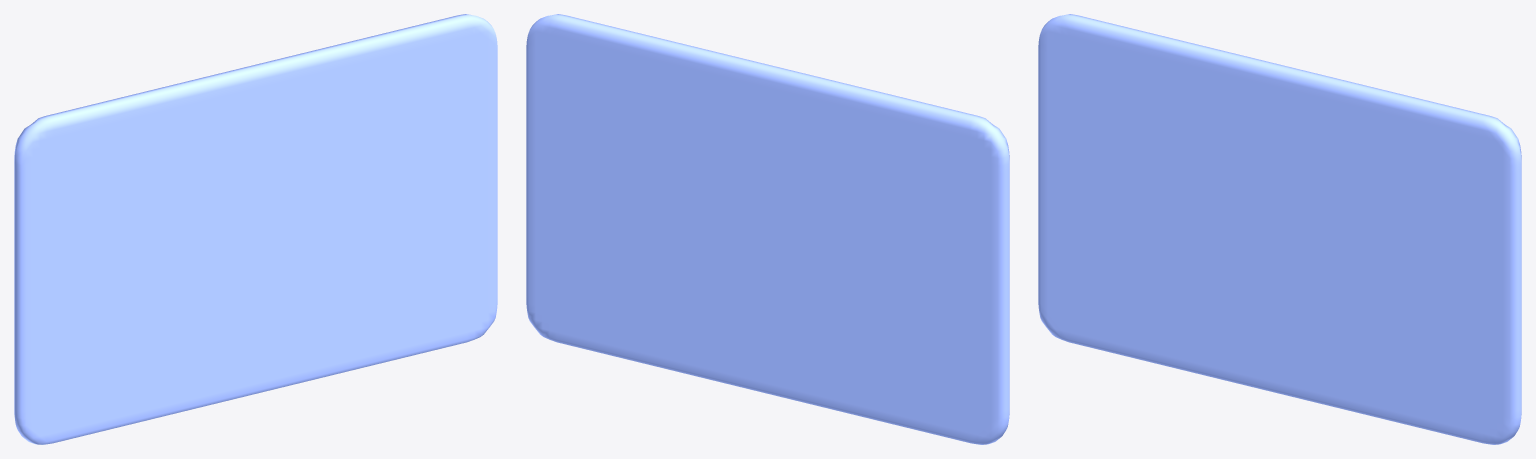
File: 094_left_binocular_ar_waveguide.glb
The picture shows the model from 3 angles, left to right: view 1: azimuth 30°, elevation 25°; view 2: azimuth 150°, elevation 25°; view 3: azimuth 330°, elevation 25°; orthographic projection.
Parts seen in each view (by area): view 1: 094 | Left Binocular AR Waveguide; view 2: 094 | Left Binocular AR Waveguide; view 3: 094 | Left Binocular AR Waveguide.
Boxes of the visible parts, bbox=[...] form: 094 | Left Binocular AR Waveguide: bbox=[14, 14, 497, 444]; 094 | Left Binocular AR Waveguide: bbox=[526, 14, 1009, 444]; 094 | Left Binocular AR Waveguide: bbox=[1038, 14, 1521, 444].
Bounding box in the file's own units: 0.021 × 0.0136 × 0.0007.
